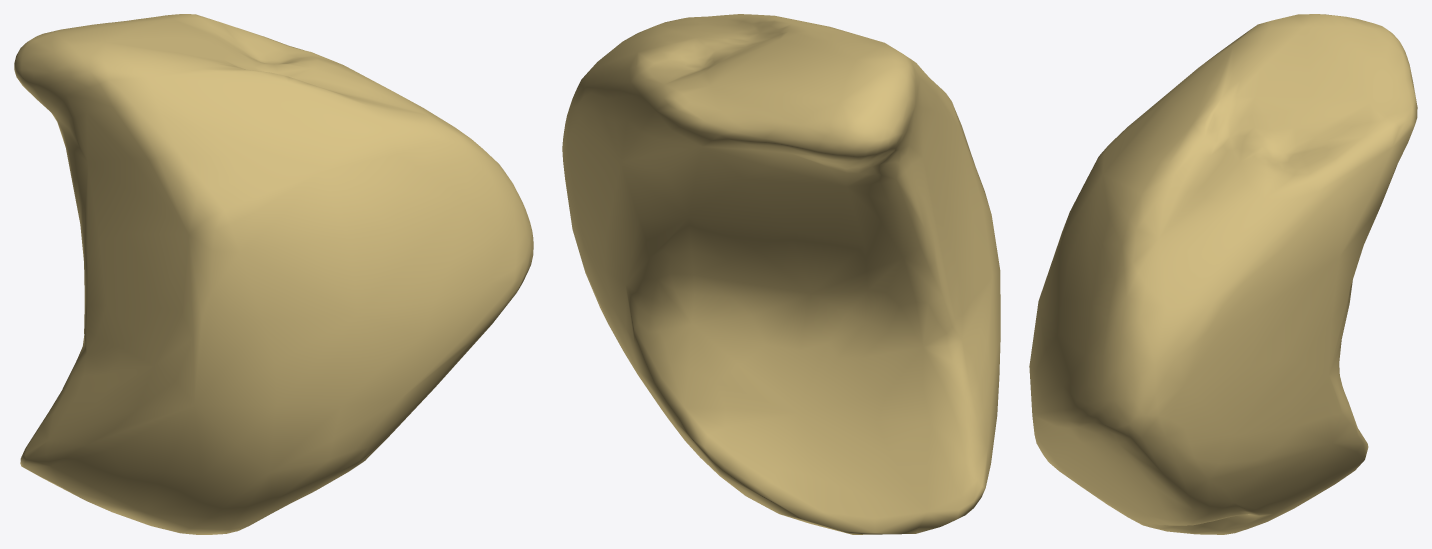
3 renders of one model, left to right at view 1: azimuth 30°, elevation 25°; view 2: azimuth 150°, elevation 25°; view 3: azimuth 270°, elevation 25°, orthographic. The views are drawn at different scales.
Parts seen in each view (by area): view 1: 右侧月骨; view 2: 右侧月骨; view 3: 右侧月骨.
Boxes of the visible parts, x1,y1,x2,y2 form: 右侧月骨: (14,14,533,534); 右侧月骨: (562,14,1000,534); 右侧月骨: (1029,14,1417,534).
Bounding box in the file's own units: 0.0252 × 0.0245 × 0.0188.
